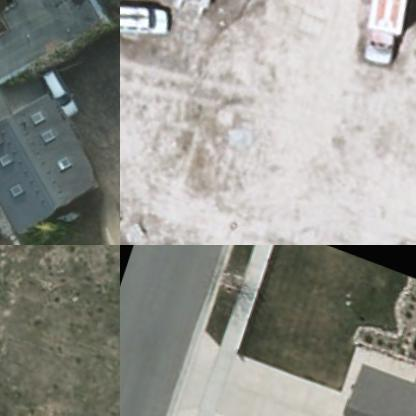car: (32, 58, 93, 117), (120, 0, 180, 51)
truck: (349, 0, 415, 66)
